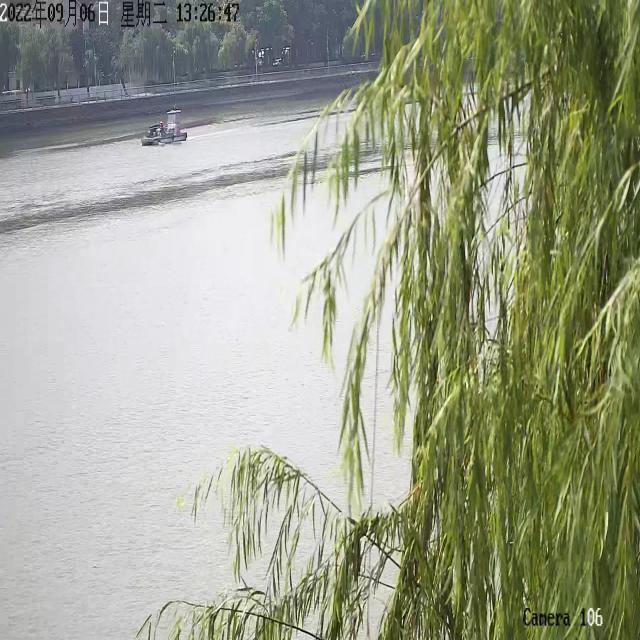ship: (140, 102, 187, 145)
